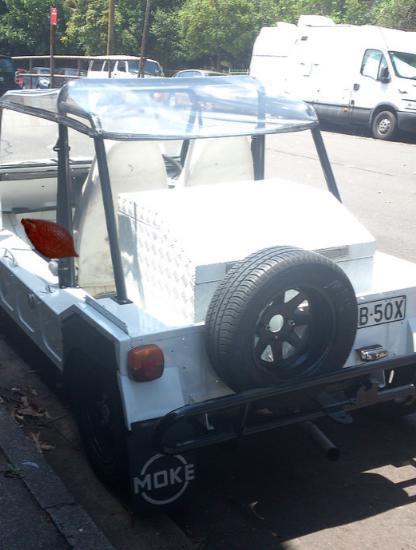Salak: (16, 205, 85, 274)
